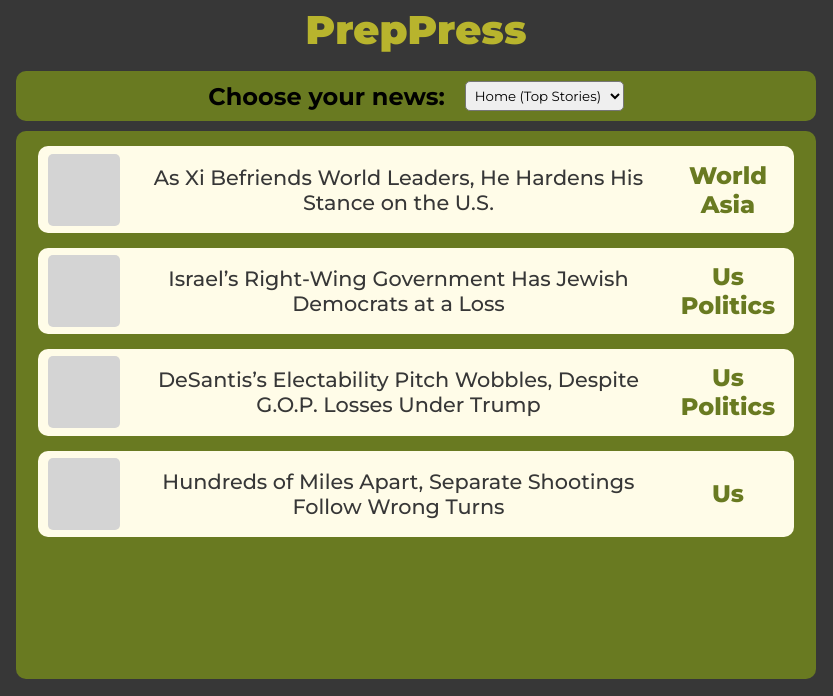
Test case: home › should update the search field value when an option is picked and show appropriate results
This screenshot has width=833, height=696.
Select "Food" in the dropdown with class "news-dropdown" at (545, 96), box left=465, top=81, right=624, bottom=111
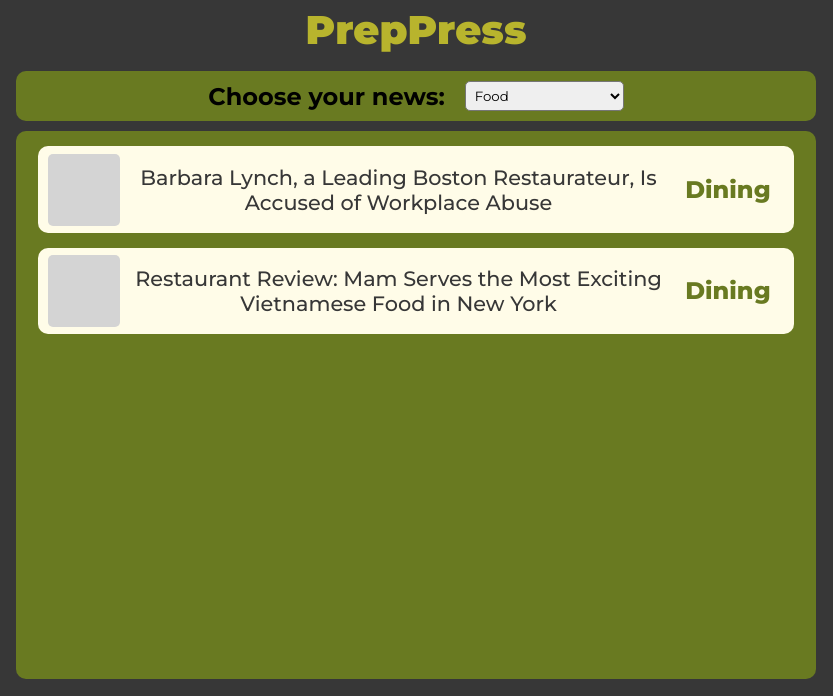
Now the heading "Barbara Lynch, a Leading Boston Restaurateur, Is Accused of Workplace Abuse" is shown, box left=125, top=165, right=672, bottom=215
